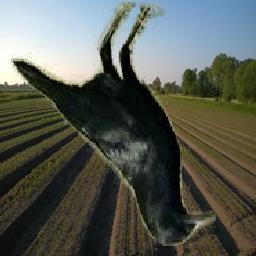Crow: (12, 2, 217, 246)
